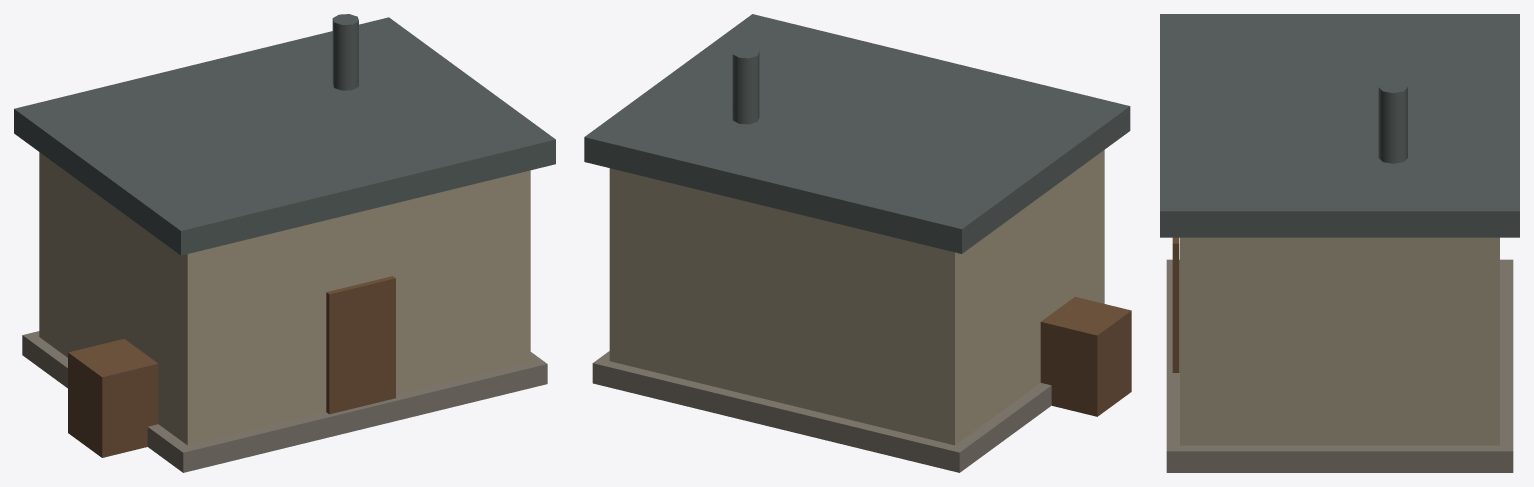
The model's file is SoilLaboratory.glb.
The picture shows the model from 3 angles, left to right: view 1: azimuth 30°, elevation 25°; view 2: azimuth 150°, elevation 25°; view 3: azimuth 270°, elevation 25°; orthographic projection. The views are drawn at different scales.
Visible parts, largest first — view 1: hand-pump-static-soil-lab-wall, hand-pump-static-soil-lab-roof, hand-pump-static-soil-lab-timber, hand-pump-static-soil-lab-stone; view 2: hand-pump-static-soil-lab-wall, hand-pump-static-soil-lab-roof, hand-pump-static-soil-lab-stone, hand-pump-static-soil-lab-timber; view 3: hand-pump-static-soil-lab-roof, hand-pump-static-soil-lab-wall, hand-pump-static-soil-lab-stone, hand-pump-static-soil-lab-timber.
Boxes of the visible parts, bbox=[...] form: hand-pump-static-soil-lab-wall: bbox=[39, 152, 530, 445]; hand-pump-static-soil-lab-roof: bbox=[14, 14, 555, 255]; hand-pump-static-soil-lab-timber: bbox=[68, 276, 395, 457]; hand-pump-static-soil-lab-stone: bbox=[22, 331, 547, 472]; hand-pump-static-soil-lab-wall: bbox=[609, 150, 1104, 445]; hand-pump-static-soil-lab-roof: bbox=[584, 14, 1130, 253]; hand-pump-static-soil-lab-stone: bbox=[592, 351, 1051, 472]; hand-pump-static-soil-lab-timber: bbox=[1040, 296, 1131, 416]; hand-pump-static-soil-lab-roof: bbox=[1160, 14, 1519, 237]; hand-pump-static-soil-lab-wall: bbox=[1180, 237, 1499, 445]; hand-pump-static-soil-lab-stone: bbox=[1166, 259, 1513, 472]; hand-pump-static-soil-lab-timber: bbox=[1172, 237, 1179, 372].
Bounding box in the file's own units: 3.88 × 2.78 × 2.7.
